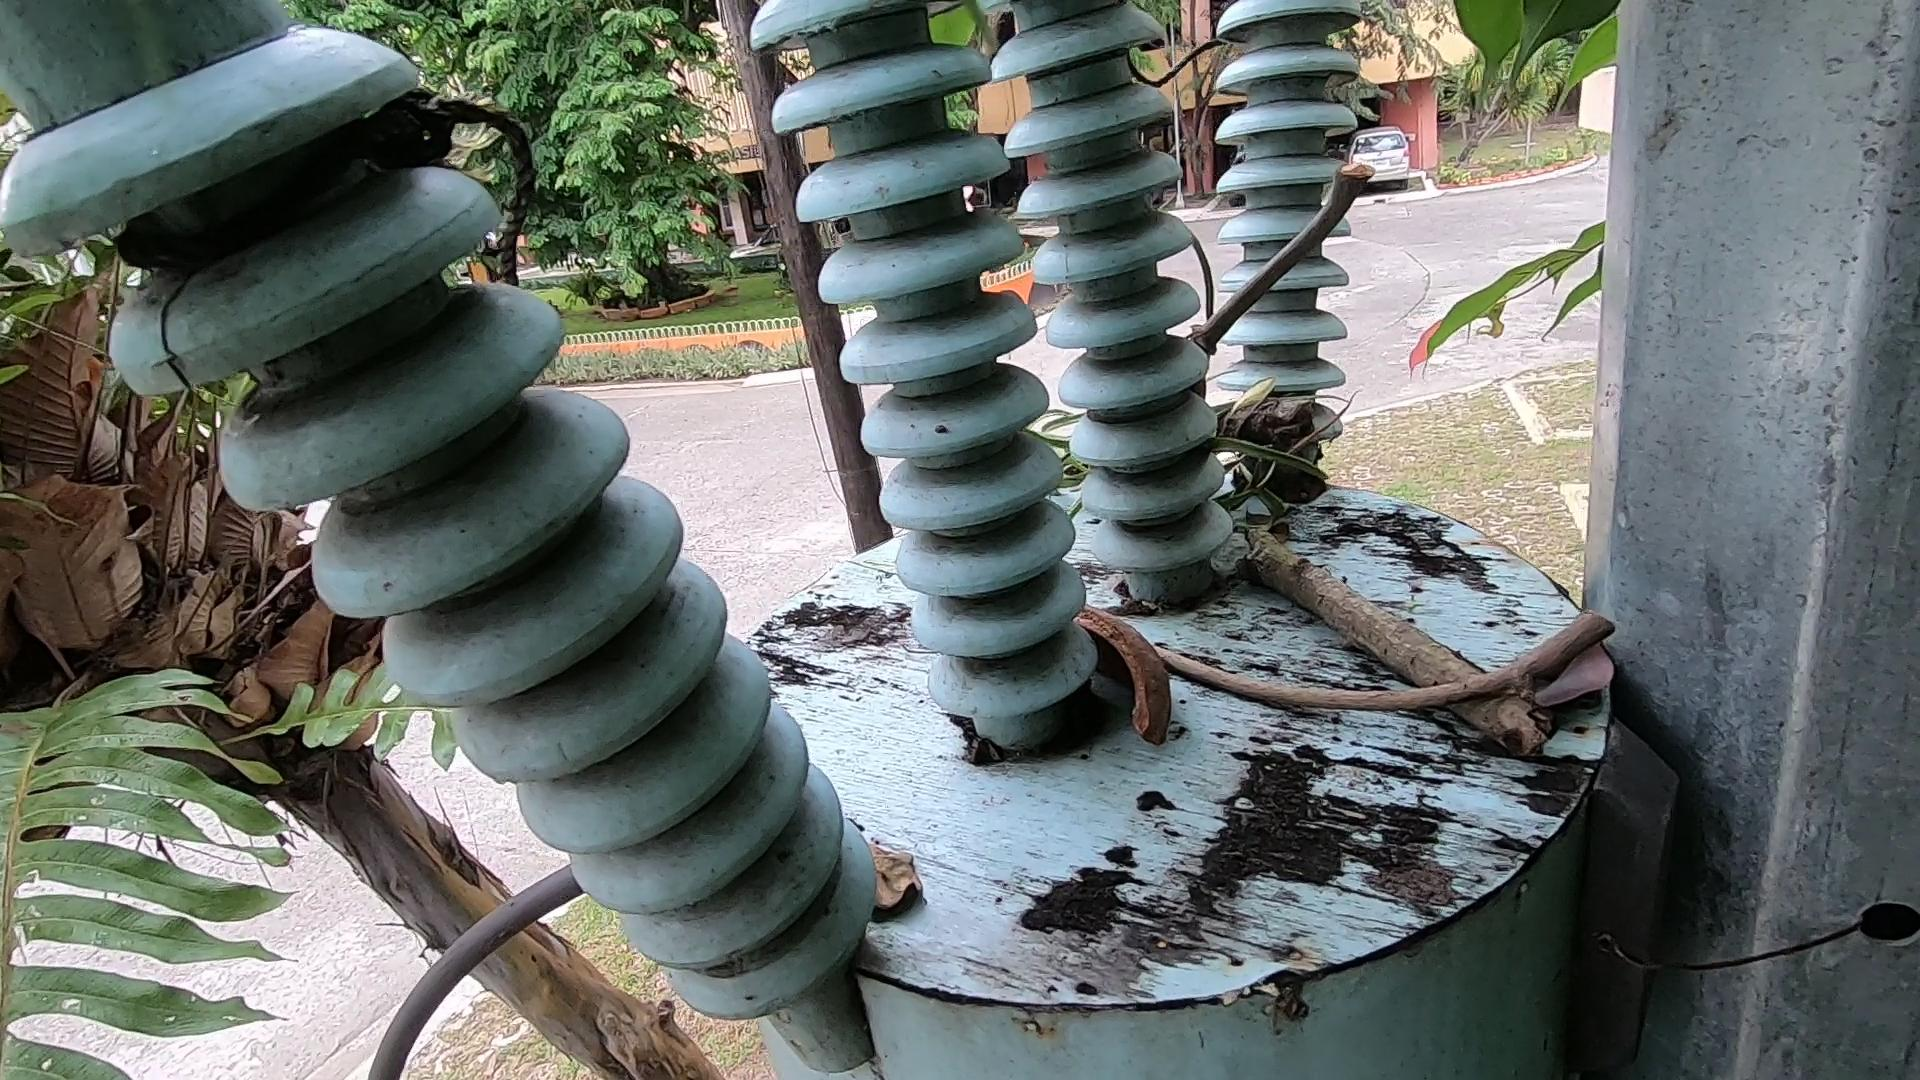branch with leaves: (1116, 349, 1625, 732)
leaf: (793, 794, 975, 951), (1542, 571, 1643, 785)
mahogany fruit: (1033, 578, 1189, 769)
tree branch: (1170, 84, 1414, 365), (1154, 640, 1639, 709)
